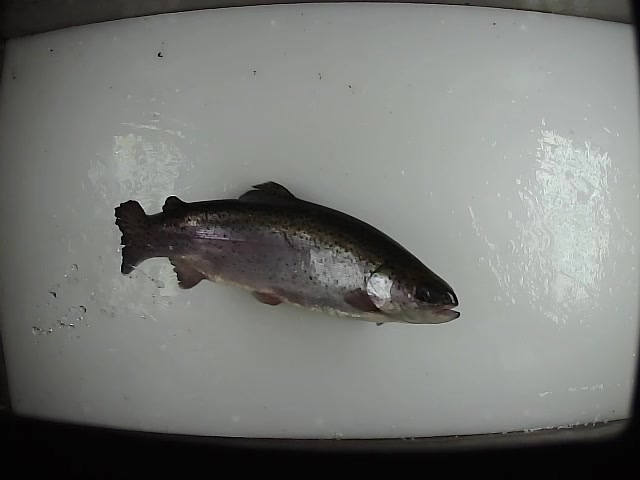Fish: (115, 179, 461, 327)
